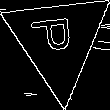P_E: (33, 20, 83, 62)
